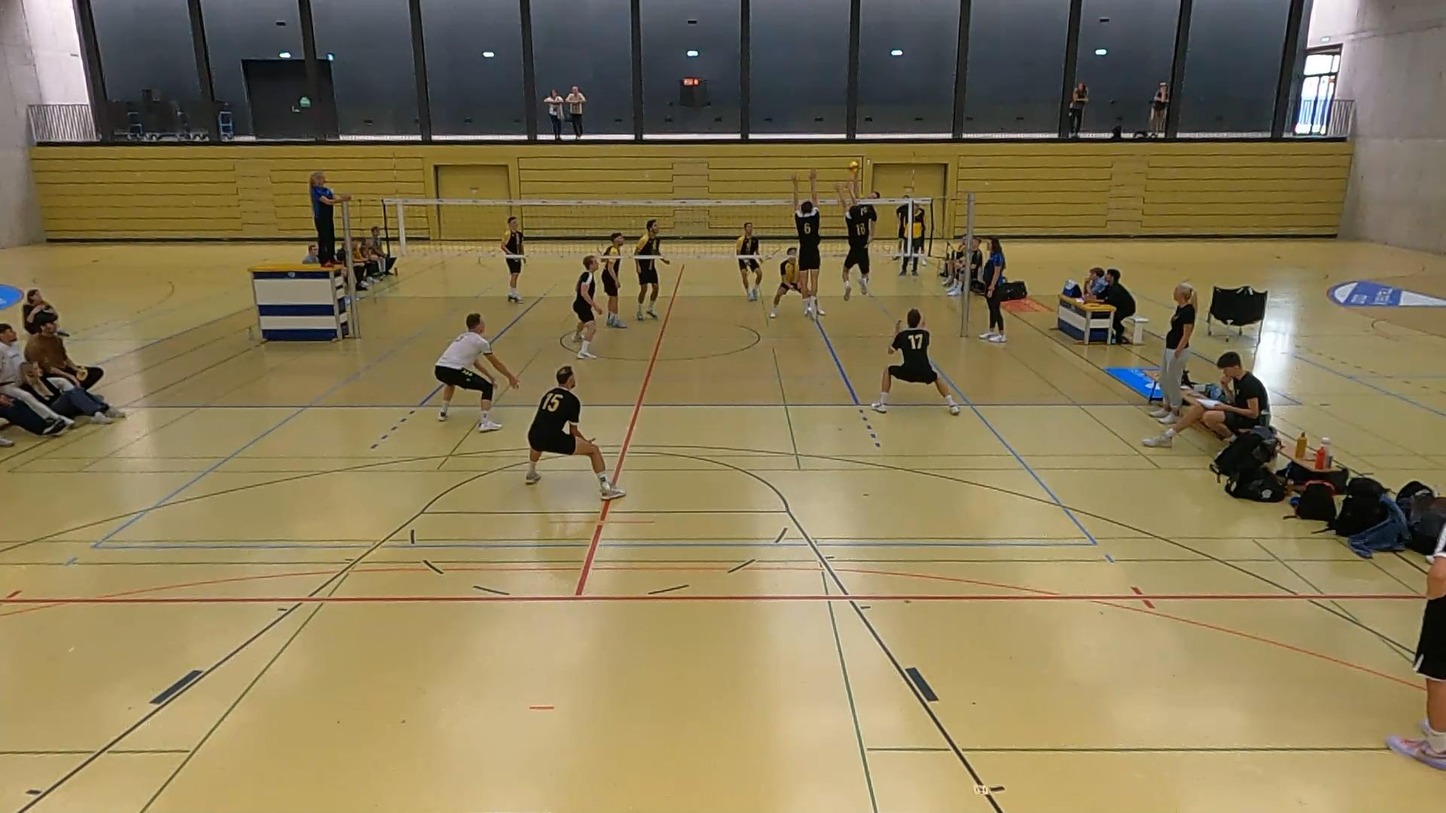attacco: (847, 168, 889, 225)
muro: (833, 186, 884, 302), (785, 186, 827, 295)
